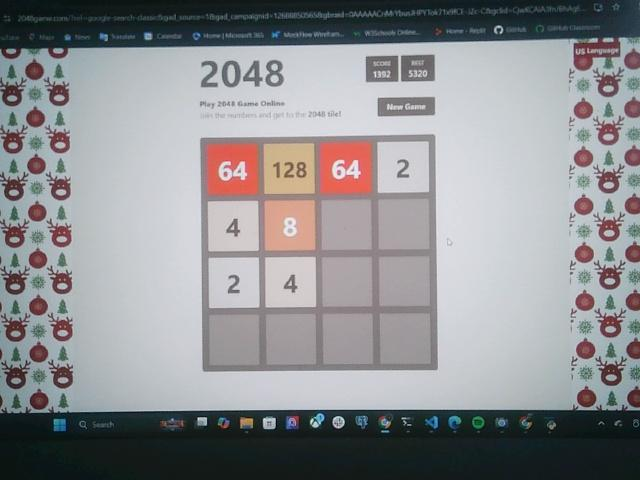board: (201, 137, 437, 372)
tile: (378, 141, 429, 193), (265, 257, 316, 309), (320, 143, 371, 194), (209, 258, 260, 309), (208, 143, 258, 194), (208, 202, 259, 252), (265, 144, 315, 194), (266, 199, 315, 250)
